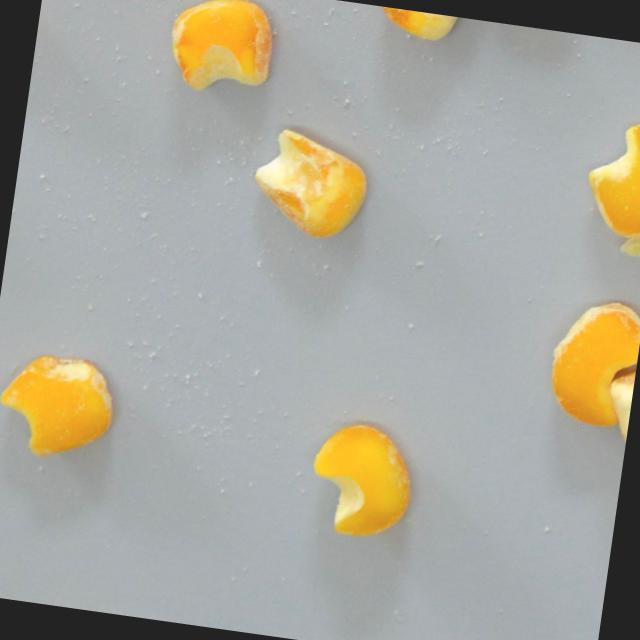pelicula: (246, 124, 373, 244), (304, 418, 419, 545), (0, 349, 121, 467), (540, 293, 640, 430), (162, 0, 280, 103), (577, 117, 640, 248), (374, 5, 480, 47), (603, 355, 638, 452)
